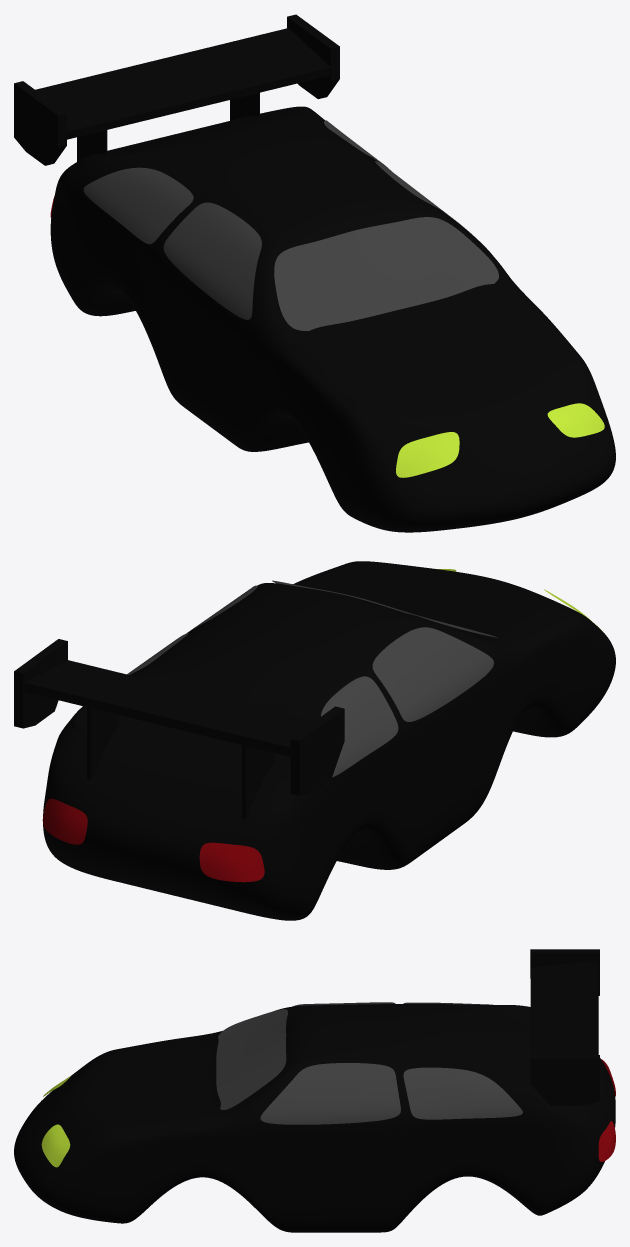
Rendered from carro 2 modelo.fbx.
The picture shows the model from 3 angles, top to bottom: view 1: azimuth 30°, elevation 25°; view 2: azimuth 150°, elevation 25°; view 3: azimuth 270°, elevation 25°; orthographic projection. The views are drawn at different scales.
Visible parts, largest first — view 1: Cube, Cube.001, Cube.013, Cube.004, Cube.011, Cube.015, Cube.010, Cube.014, Cube.009, Cube.005; view 2: Cube, Cube.013, Cube.004, Cube.011, Cube.008, Cube.015, Cube.014, Cube.005, Cube.012; view 3: Cube, Cube.002, Cube.013, Cube.001, Cube.003, Cube.014, Cube.015, Cube.009, Cube.008.
Part boxes in pixels (box(x1,y1,x2,y2)): Cube: box(50, 106, 615, 532); Cube.001: box(274, 217, 498, 330); Cube.013: box(35, 28, 330, 139); Cube.004: box(163, 202, 261, 319); Cube.011: box(83, 167, 193, 244); Cube.015: box(14, 81, 66, 165); Cube.010: box(396, 432, 459, 477); Cube.014: box(287, 14, 339, 99); Cube.009: box(547, 403, 604, 437); Cube.005: box(77, 130, 107, 161); Cube: box(43, 561, 615, 920); Cube.013: box(24, 660, 315, 756); Cube.004: box(372, 627, 493, 721); Cube.011: box(321, 676, 398, 777); Cube.008: box(42, 798, 264, 882); Cube.015: box(290, 706, 344, 795); Cube.014: box(14, 639, 67, 728); Cube.005: box(242, 745, 274, 819); Cube.012: box(87, 707, 119, 779); Cube: box(14, 1004, 615, 1232); Cube.002: box(260, 1063, 400, 1124); Cube.013: box(530, 961, 598, 1054); Cube.001: box(216, 1009, 287, 1109); Cube.003: box(403, 1067, 522, 1119); Cube.014: box(530, 1055, 599, 1105); Cube.015: box(530, 949, 599, 995); Cube.009: box(41, 1124, 70, 1167); Cube.008: box(598, 1059, 615, 1161).
Size of the model in its own units: 226 by 183 by 526.
